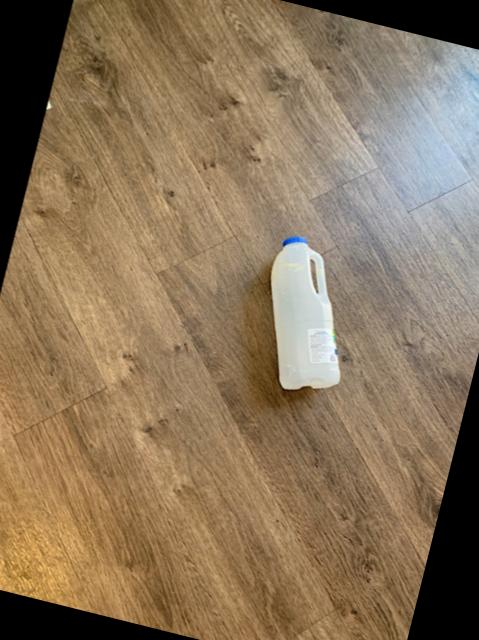plastic: (270, 235, 338, 388)
